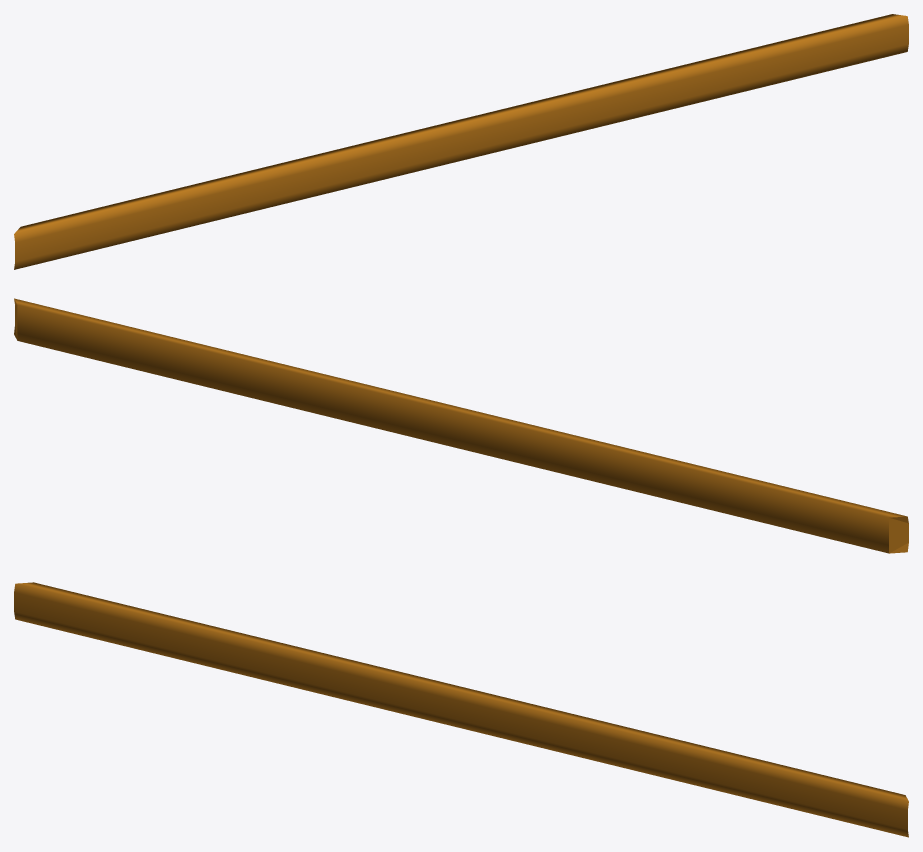
The model's file is Blocker_Bar_Long_X2.fbx.
3 views of the same model, one above another, from view 1: azimuth 30°, elevation 25°; view 2: azimuth 150°, elevation 25°; view 3: azimuth 330°, elevation 25° (orthographic).
Parts seen in each view (by area): view 1: Blocker_Bar_Long_X2; view 2: Blocker_Bar_Long_X2; view 3: Blocker_Bar_Long_X2.
Part boxes in pixels (box(x1,y1,x2,y2)): Blocker_Bar_Long_X2: box(14, 14, 908, 269); Blocker_Bar_Long_X2: box(14, 298, 908, 553); Blocker_Bar_Long_X2: box(14, 582, 908, 837).
Size of the model in its own units: 16.92 by 0.6483 by 0.2341.
